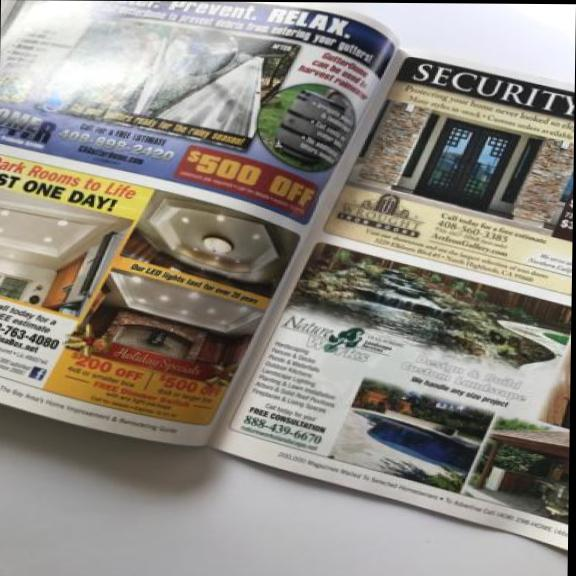Kertas: (0, 2, 576, 556)
